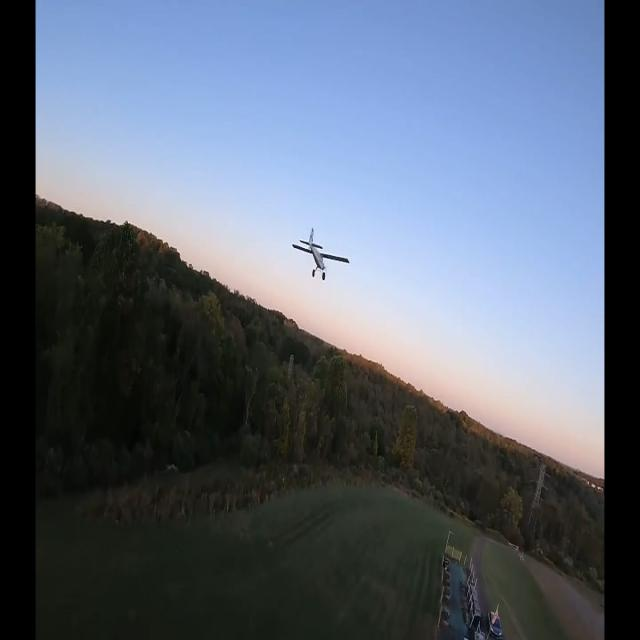iha: (291, 226, 349, 282)
